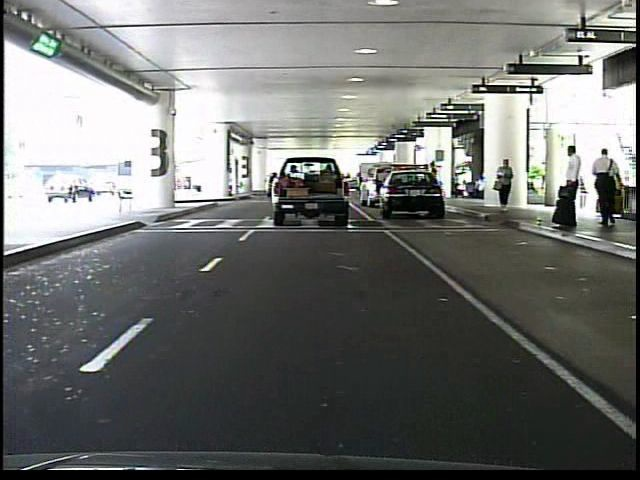person: (553, 142, 585, 233), (591, 144, 624, 231), (495, 152, 520, 217), (428, 159, 443, 203)
